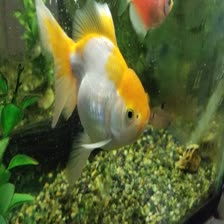Cuezo: (30, 1, 153, 173)
Plano: (119, 0, 178, 31)
